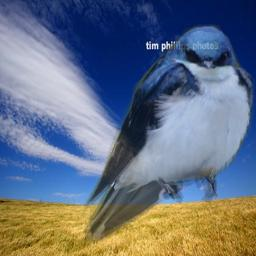Swallow: (78, 23, 255, 243)
